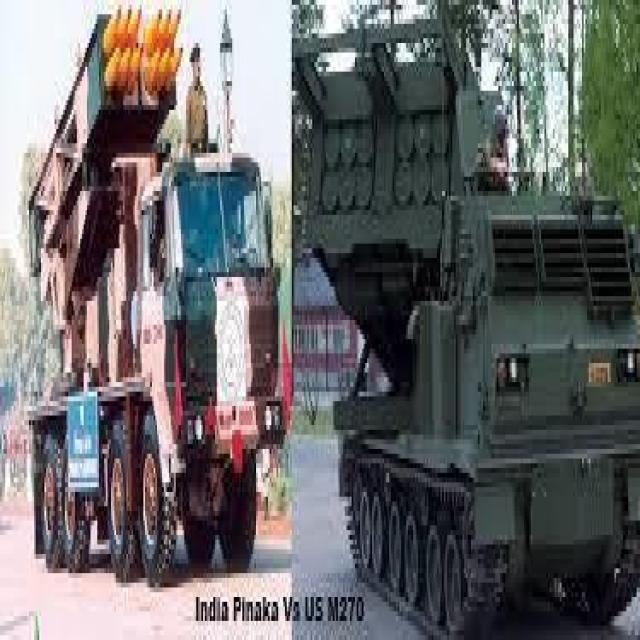Tanks: (8, 7, 286, 585), (290, 62, 570, 621)
